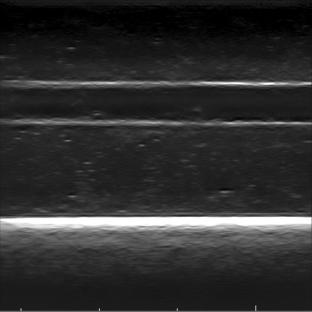vessel: (4, 78, 311, 129)
